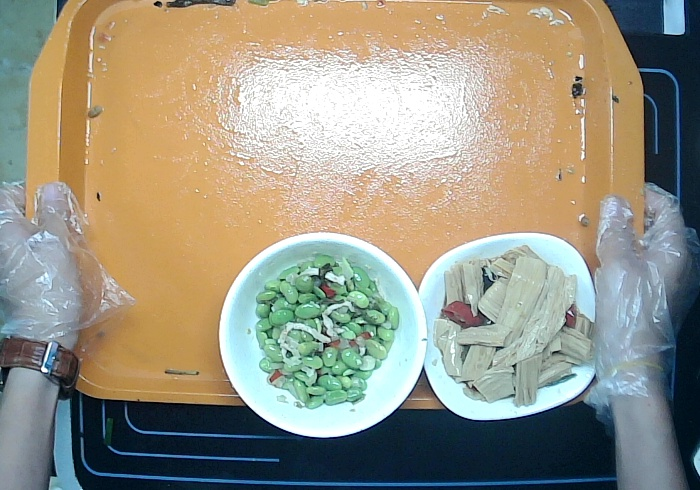ZNLD-Si_Fang_Wan: (415, 229, 603, 425)
ZNLD-Tang_Wan: (214, 229, 430, 444)
